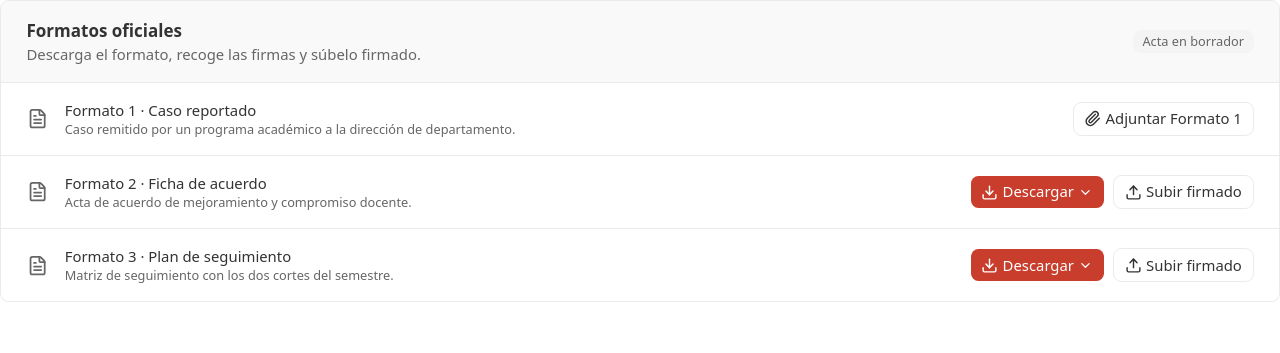
Test case: PlanDocuments › puts both file types behind a single download button
Expected: the button "Word" is not shown
Click the button "Descargar" in the row of "Formato 2 · Ficha de acuerdo": (1037, 192) [970,175,1105,209]
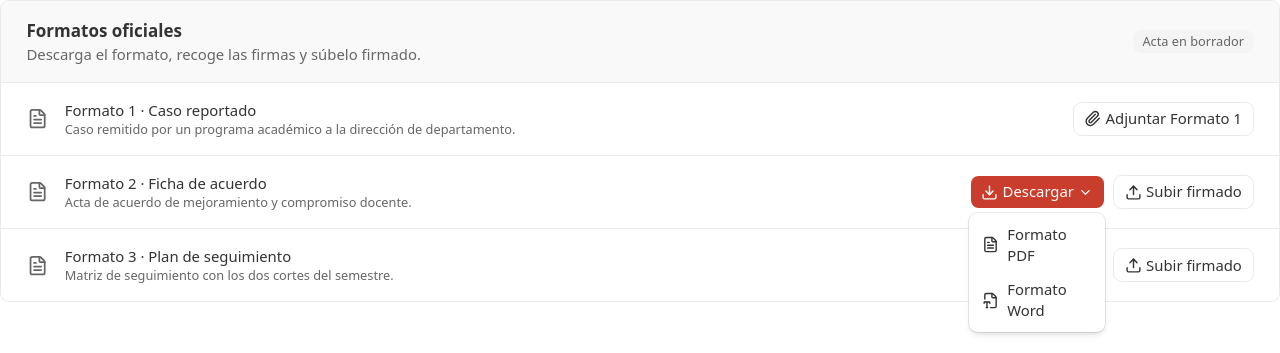
Expected: the menu item "Formato PDF" is shown, [982,224,1067,265]
Expected: the menu item "Formato Word" is shown, [982,279,1067,320]
